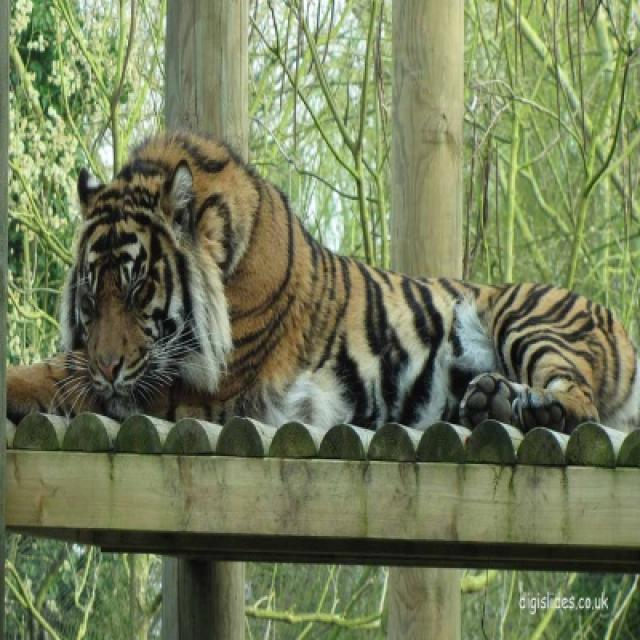Tiger: (6, 133, 638, 432)
